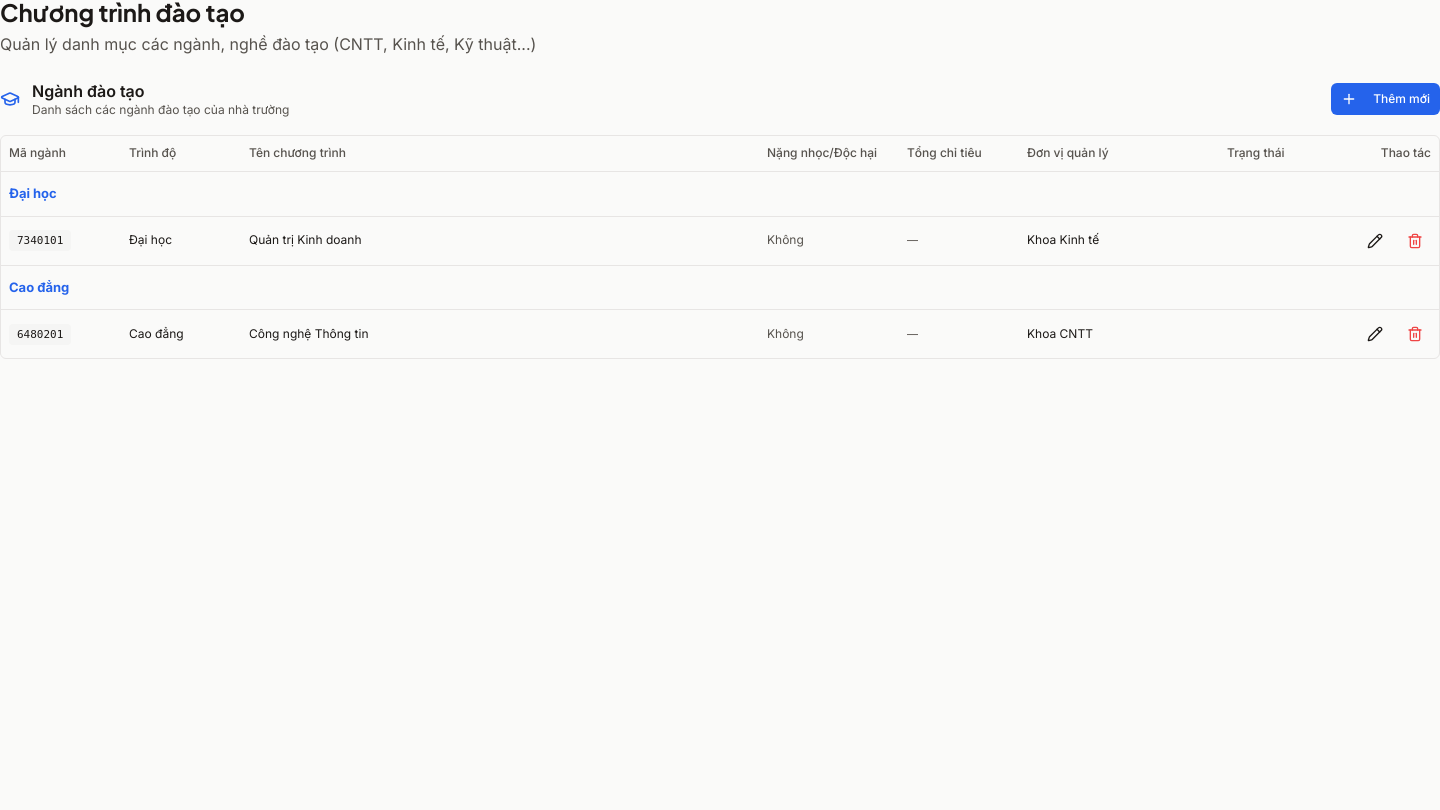
Scenario: MajorProgramPanel › should open edit dialog and populate data correctly
The image size is (1440, 810).
Note: Edit "Công nghệ Thông tin"
Click the button named "Chỉnh sửa" in the row of "6480201". click: coordinates (1375, 334)
box: [1359,318,1391,350]
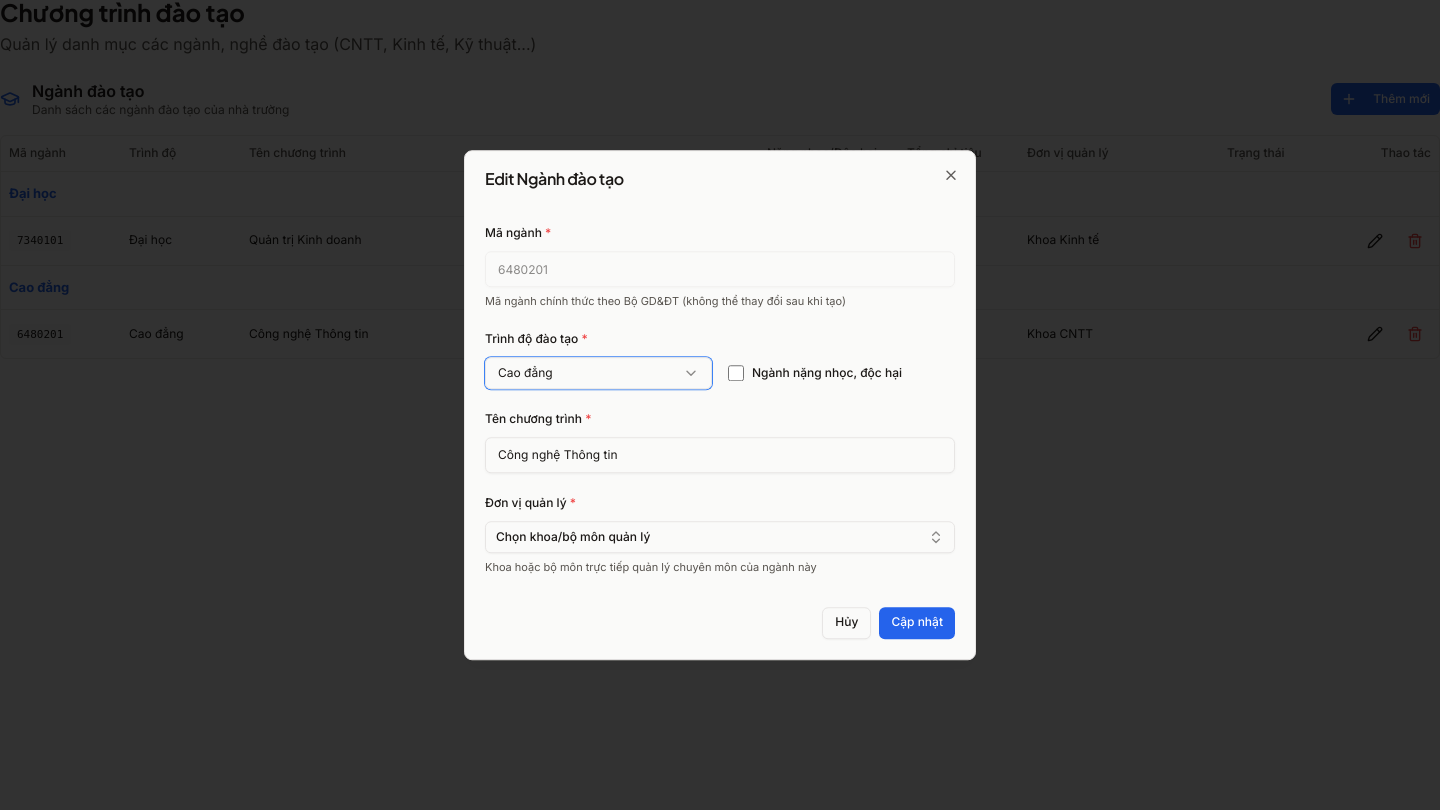
Result: the dialog is shown at [464,150,976,660]
Result: the field labelled "Mã ngành *" holds "6480201" at [485,251,955,287]
Result: the field labelled "Mã ngành *" is disabled at [485,251,955,287]
